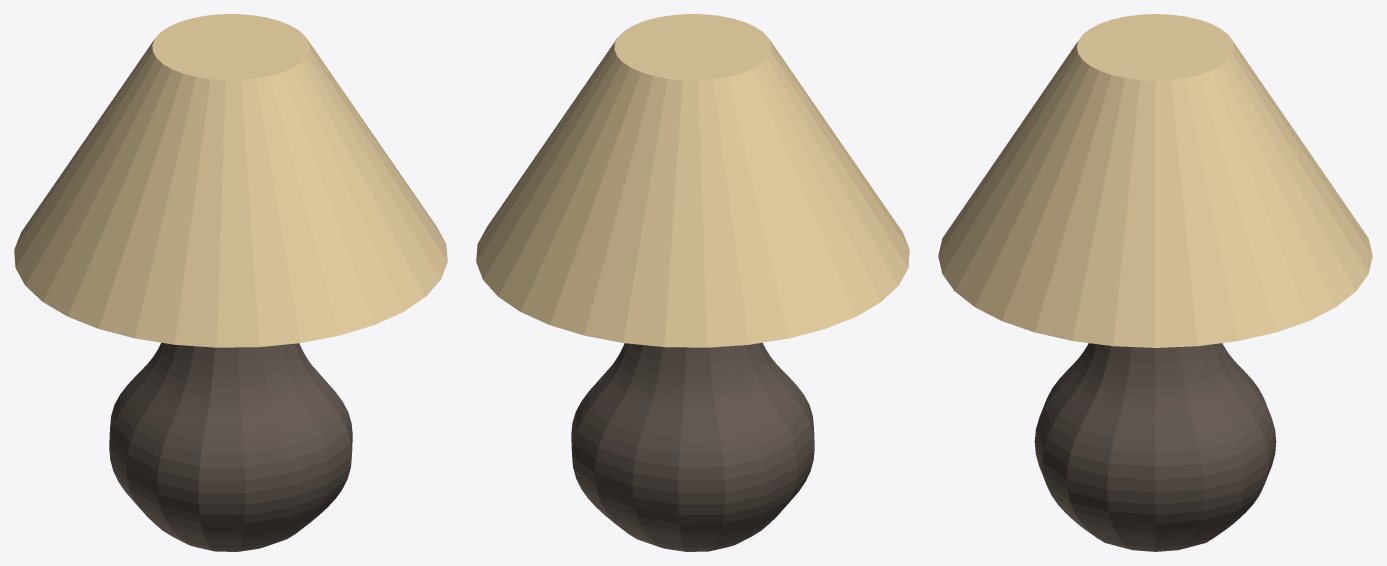
The model's file is lamp.glb.
3 views of the same model, side by side, from view 1: azimuth 30°, elevation 25°; view 2: azimuth 150°, elevation 25°; view 3: azimuth 270°, elevation 25° (orthographic).
Bounding box in the file's own units: 458 × 568 × 458.
